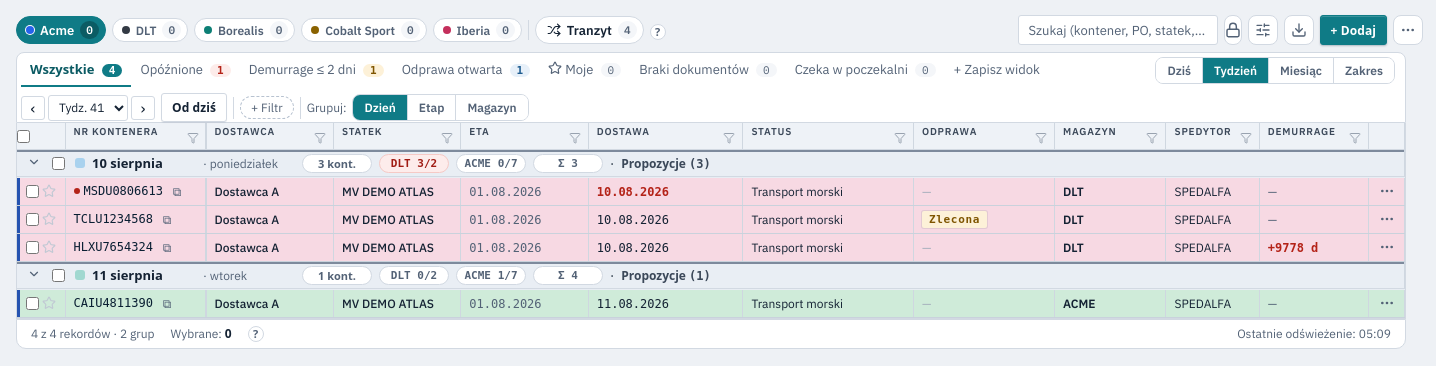
Test: Kolejka Enterprise › jedna podgrupa planowania: tylko licznik w nagłówku grupy (bez osobnego wiersza), nadal zwija
Expected: the text "MSDU0806613" is shown, [84,184,163,198]
Click the button with class "kq-gplan" showing "Propozycje (3)" at (666, 163), box [621,154,711,172]
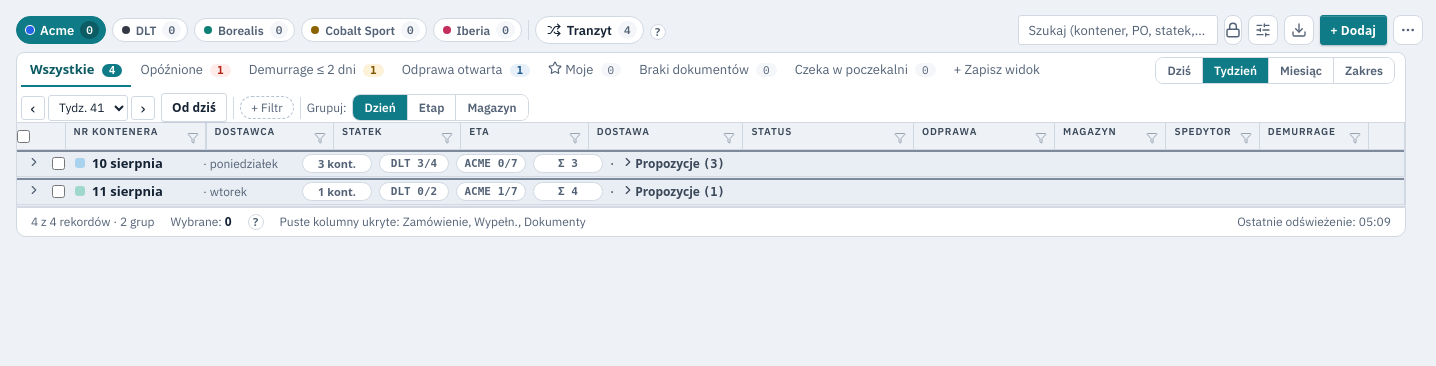
Result: the text "MSDU0806613" is gone
